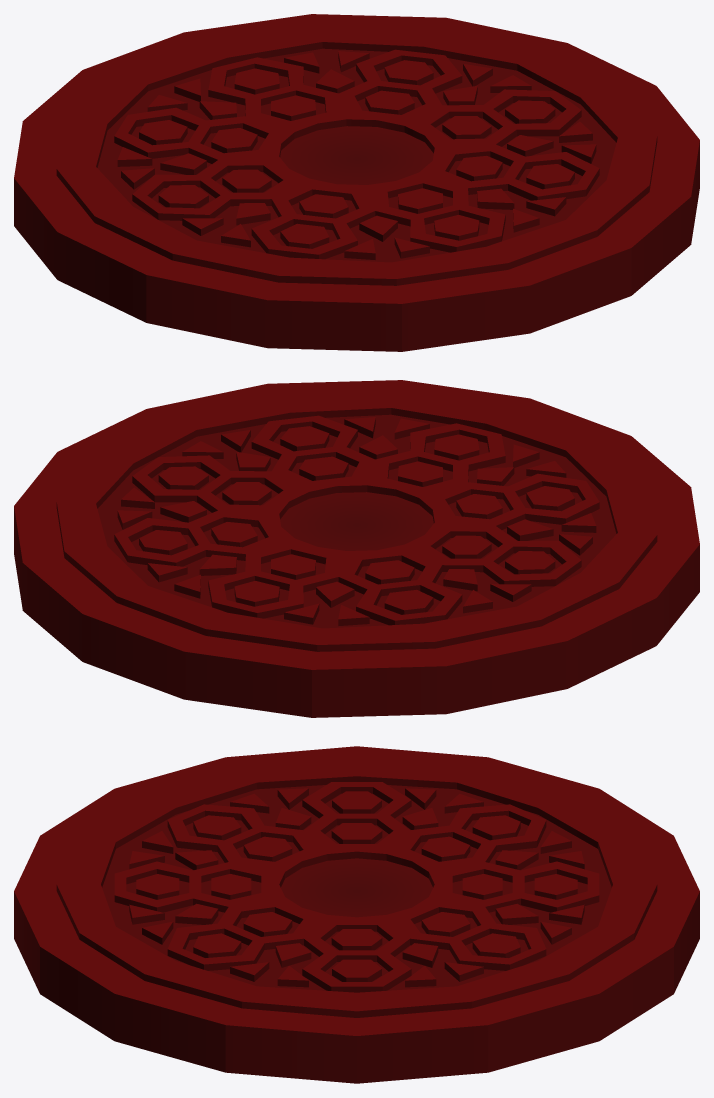
The model's file is ManholeCover.glb.
3 views of the same model, one above another, from view 1: azimuth 30°, elevation 25°; view 2: azimuth 150°, elevation 25°; view 3: azimuth 270°, elevation 25° (orthographic).
Parts seen in each view (by area): view 1: ManholeCover; view 2: ManholeCover; view 3: ManholeCover.
Boxes of the visible parts, x1,y1,x2,y2 form: ManholeCover: [14, 14, 699, 351]; ManholeCover: [14, 380, 699, 717]; ManholeCover: [14, 746, 699, 1083].
Size of the model in its own units: 7.11 by 0.6212 by 7.11.
